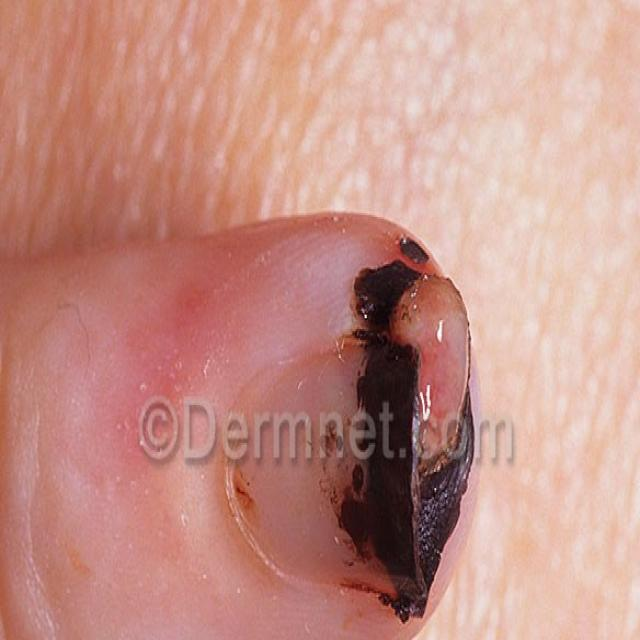Vascular Tumors: (343, 209, 484, 625)
